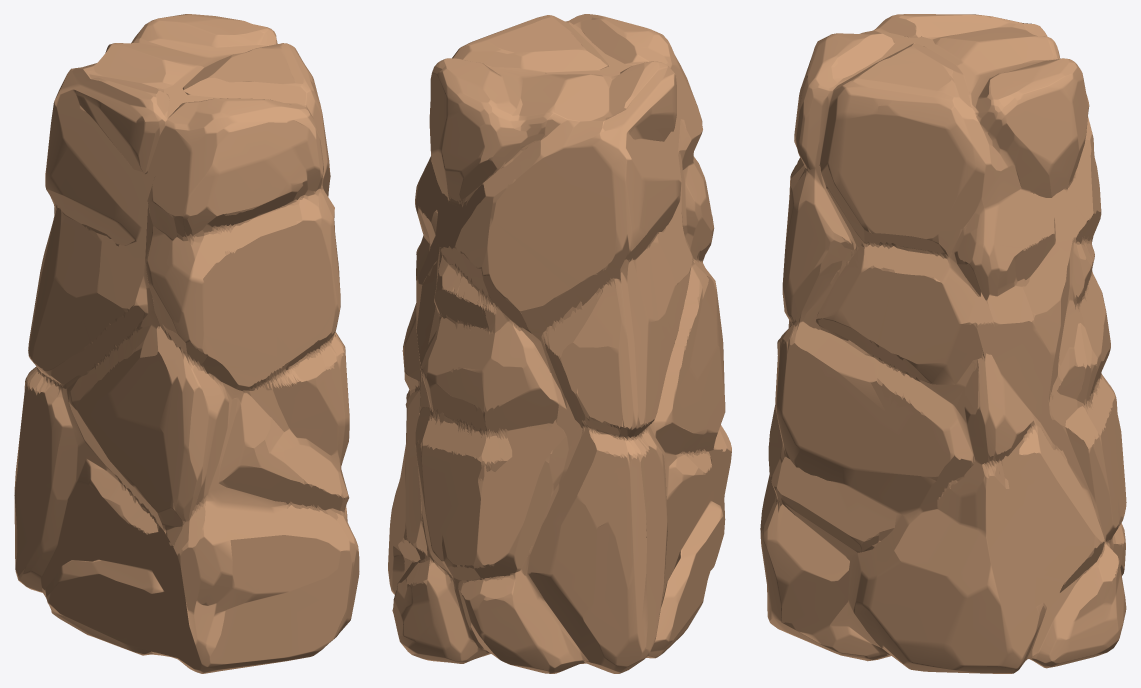
The picture shows the model from 3 angles, left to right: view 1: azimuth 30°, elevation 25°; view 2: azimuth 150°, elevation 25°; view 3: azimuth 270°, elevation 25°; orthographic projection. The views are drawn at different scales.
Visible parts, largest first — view 1: Mesh_54_LOD0; view 2: Mesh_54_LOD0; view 3: Mesh_54_LOD0.
Part boxes in pixels (x1=…): Mesh_54_LOD0: x1=14, y1=14, x2=359, y2=673; Mesh_54_LOD0: x1=388, y1=14, x2=731, y2=673; Mesh_54_LOD0: x1=760, y1=14, x2=1126, y2=673.
Size of what is drawn, in the model's own units: 1670 by 3156 by 1836.
